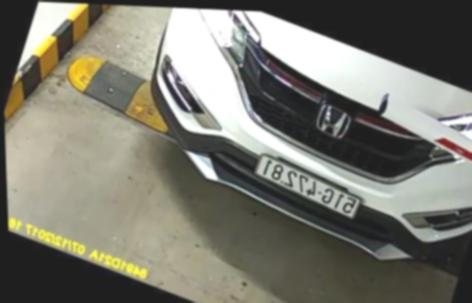License_Plate: (243, 154, 368, 227)
